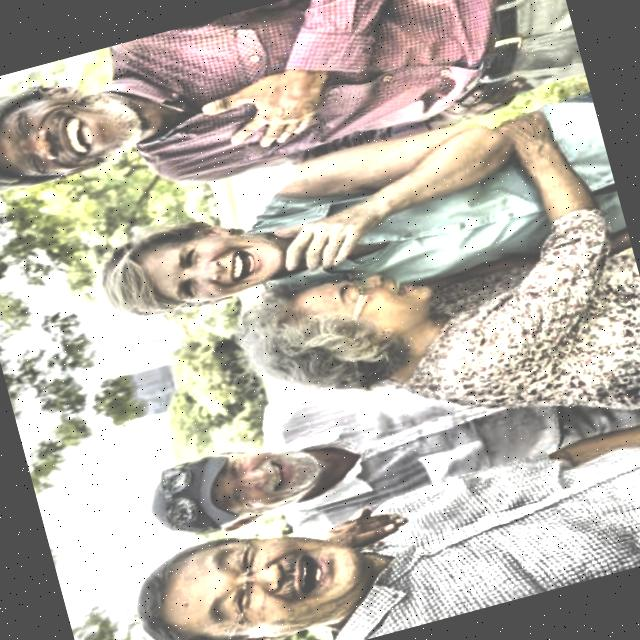happy: (228, 235, 468, 419), (119, 500, 388, 640), (76, 189, 296, 341), (0, 52, 170, 220), (136, 417, 336, 550)
